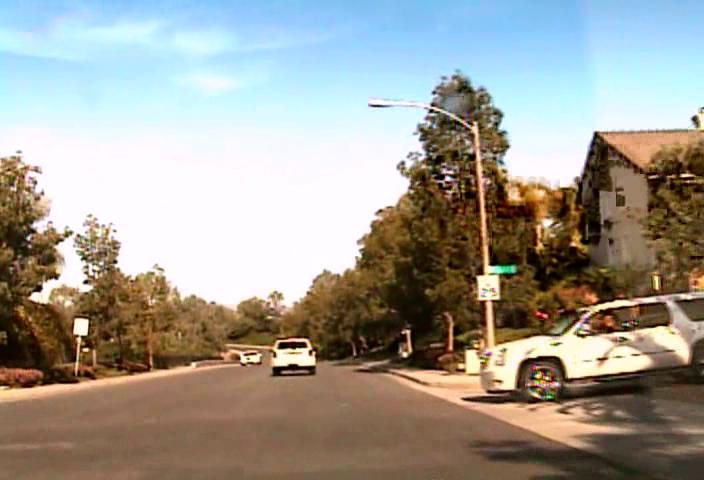speedLimit25: (477, 274, 501, 301)
